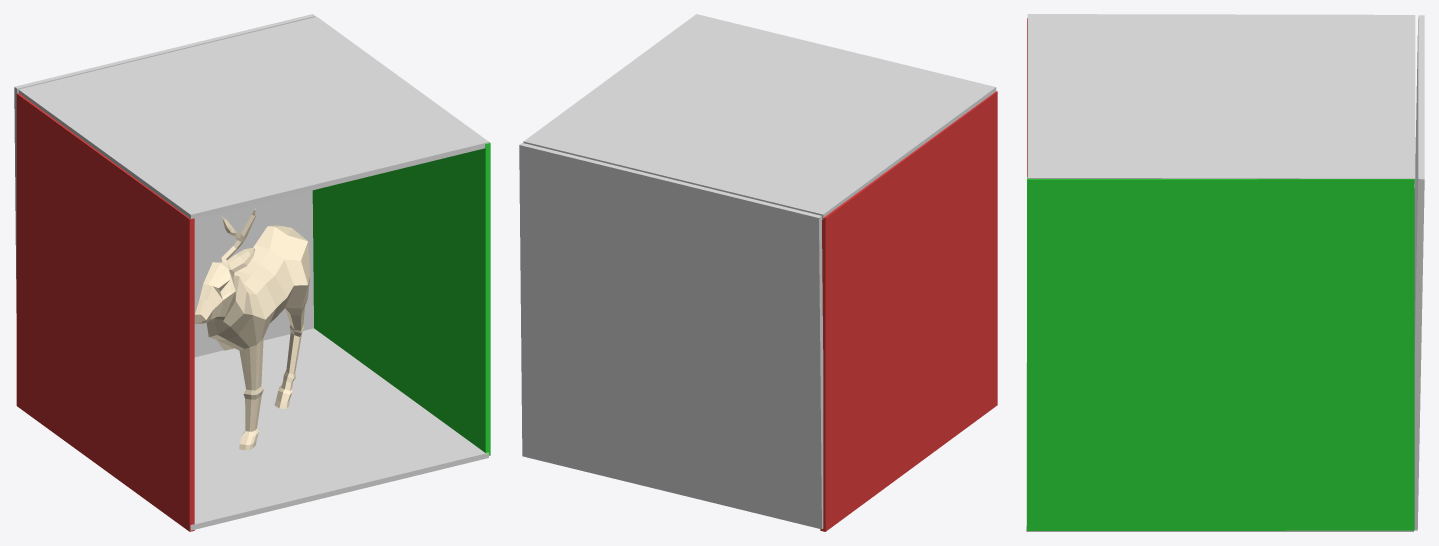
File: DeerBox.gltf
3 renders of one model, left to right at view 1: azimuth 30°, elevation 25°; view 2: azimuth 150°, elevation 25°; view 3: azimuth 270°, elevation 25°, orthographic. The views are drawn at different scales.
Parts seen in each view (by area): view 1: Cube.005, Cube.003, Cube.004, Cube, Cube.001, Cube.002; view 2: Cube.002, Cube.005, Cube.003; view 3: Cube.004, Cube.003, Cube.002, Cube.
Boxes of the visible parts, <box> form: Cube.005: <box>16,93,194,531</box>; Cube.003: <box>18,16,489,218</box>; Cube.004: <box>312,142,490,455</box>; Cube: <box>190,328,488,530</box>; Cube.001: <box>194,209,309,450</box>; Cube.002: <box>14,14,315,357</box>; Cube.002: <box>519,143,823,529</box>; Cube.005: <box>820,91,997,531</box>; Cube.003: <box>523,14,996,219</box>; Cube.004: <box>1027,177,1414,530</box>; Cube.003: <box>1027,14,1415,184</box>; Cube.002: <box>1414,15,1424,530</box>; Cube: <box>1026,362,1413,531</box>.
Bounding box in the file's own units: 10.14 × 10.17 × 10.31.
